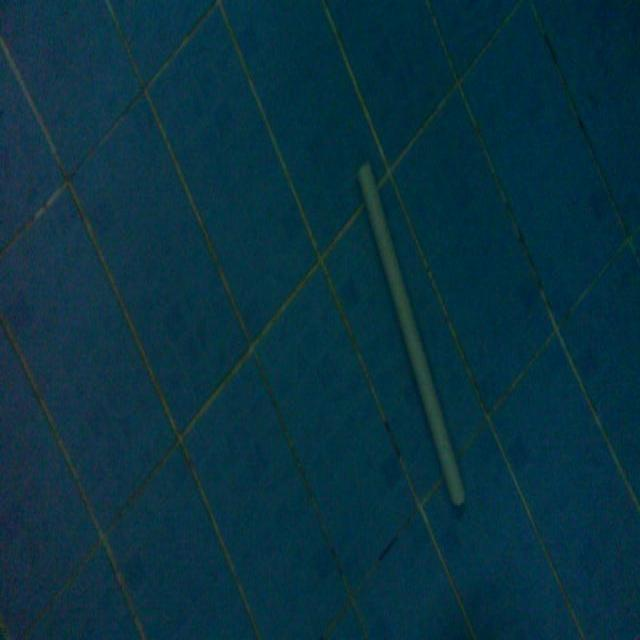Cube: (355, 155, 468, 510)
